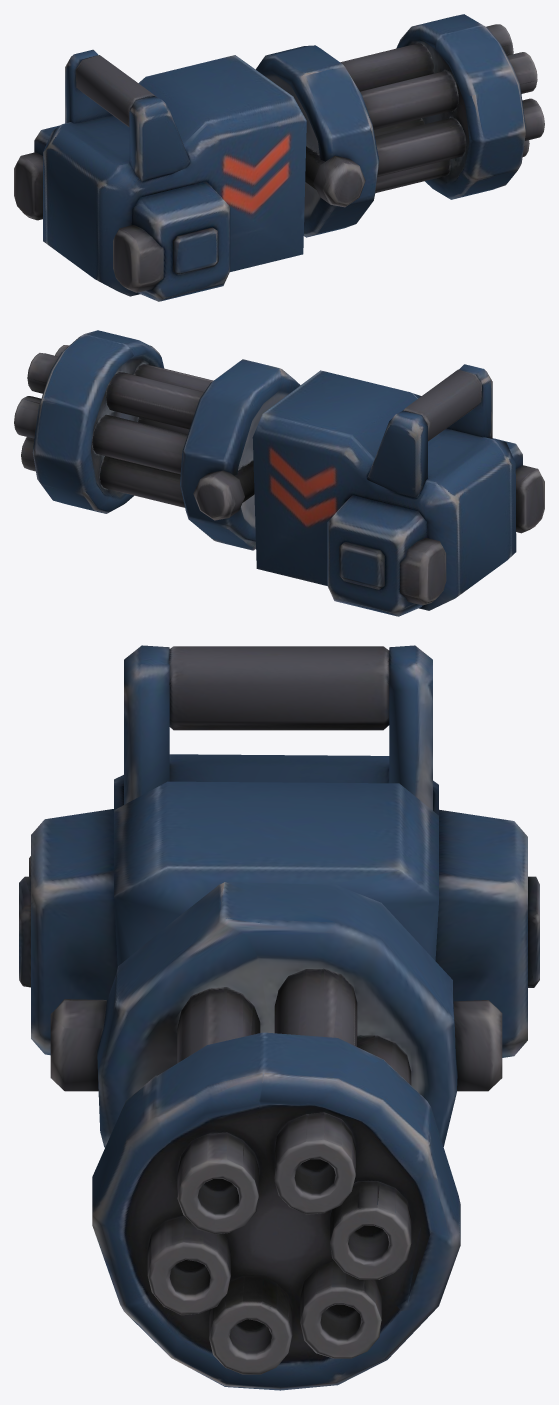
3 views of the same model, one above another, from view 1: azimuth 30°, elevation 25°; view 2: azimuth 150°, elevation 25°; view 3: azimuth 270°, elevation 25° (orthographic). The views are drawn at different scales.
Parts seen in each view (by area): view 1: tripo_node_ad75a003-404a-431c-8f57-397091457814; view 2: tripo_node_ad75a003-404a-431c-8f57-397091457814; view 3: tripo_node_ad75a003-404a-431c-8f57-397091457814.
Boxes of the visible parts, x1,y1,x2,y2 form: tripo_node_ad75a003-404a-431c-8f57-397091457814: (14, 14, 544, 301); tripo_node_ad75a003-404a-431c-8f57-397091457814: (14, 330, 544, 616); tripo_node_ad75a003-404a-431c-8f57-397091457814: (19, 645, 539, 1390).
Bounding box in the file's own units: 0.998 × 0.4199 × 0.5137.
Materials: 1 (1 with a texture image).
